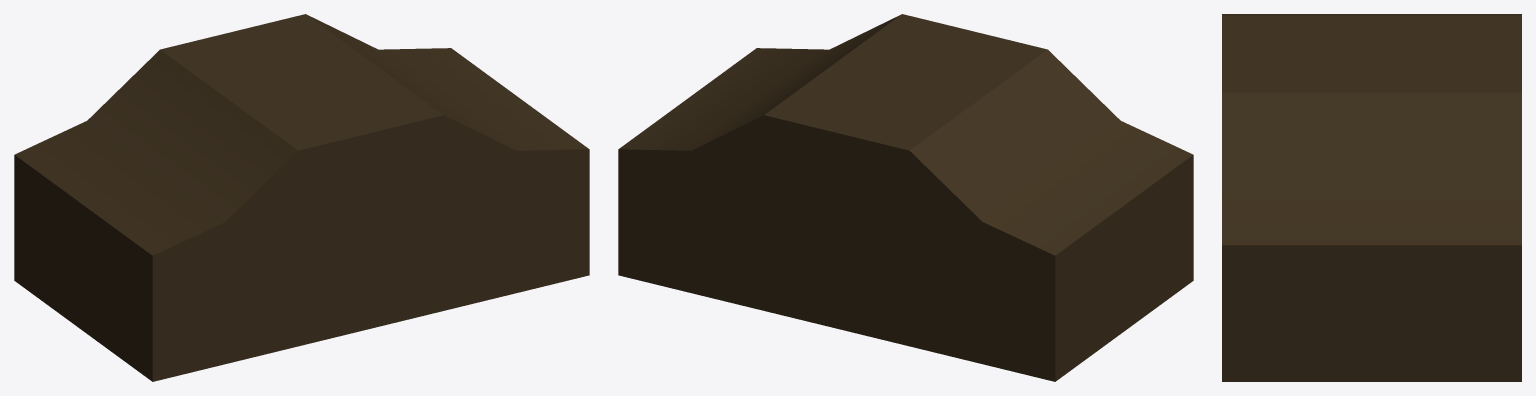
The model's file is Itr_Obj_Grandfatherclock2_Top_02.FBX.
3 renders of one model, left to right at view 1: azimuth 30°, elevation 25°; view 2: azimuth 150°, elevation 25°; view 3: azimuth 270°, elevation 25°, orthographic. The views are drawn at different scales.
Visible parts, largest first — view 1: Itr_Obj_Grandfatherclock2_Top_02; view 2: Itr_Obj_Grandfatherclock2_Top_02; view 3: Itr_Obj_Grandfatherclock2_Top_02.
Part boxes in pixels (x1,y1,x2,y2): Itr_Obj_Grandfatherclock2_Top_02: (14, 14, 589, 381); Itr_Obj_Grandfatherclock2_Top_02: (618, 14, 1193, 381); Itr_Obj_Grandfatherclock2_Top_02: (1222, 14, 1521, 381).
Size of the model in its own units: 23.74 by 10.17 by 13.01.
